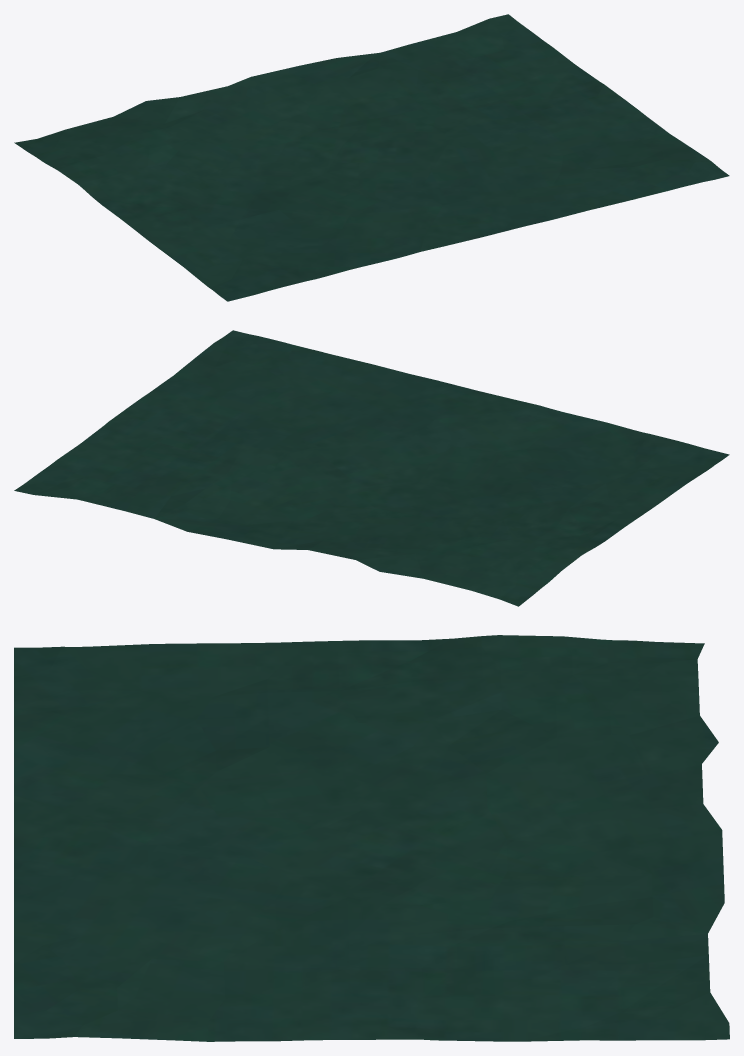
3 views of the same model, one above another, from view 1: azimuth 30°, elevation 25°; view 2: azimuth 150°, elevation 25°; view 3: azimuth 270°, elevation 25° (orthographic). The views are drawn at different scales.
Size of the model in its own units: 52.22 by 0.9349 by 39.86.
Materials: 2 (2 with a texture image).
